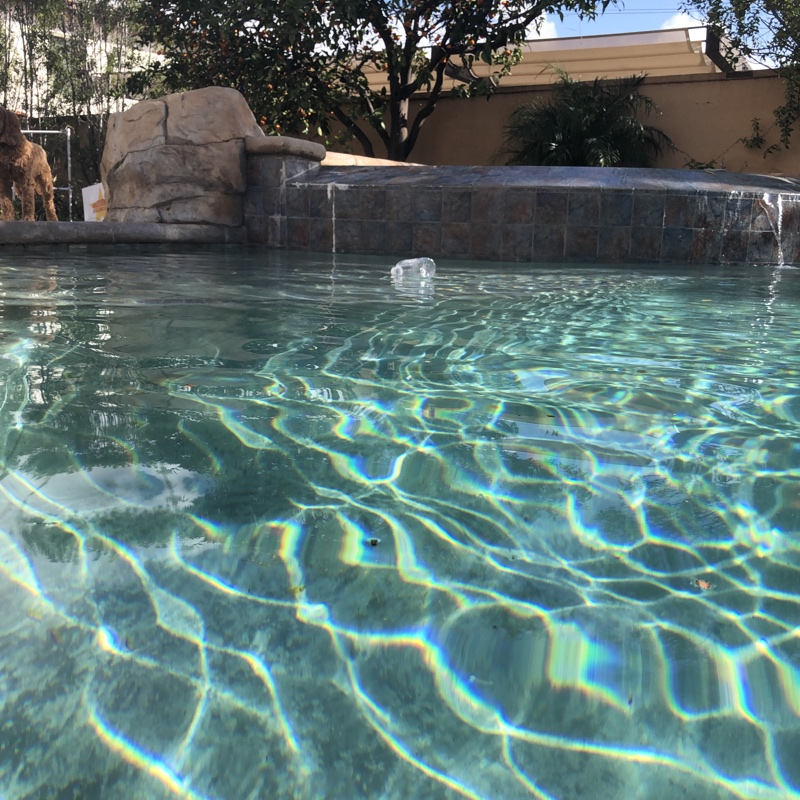Plastic Bottle: (389, 257, 437, 278)
